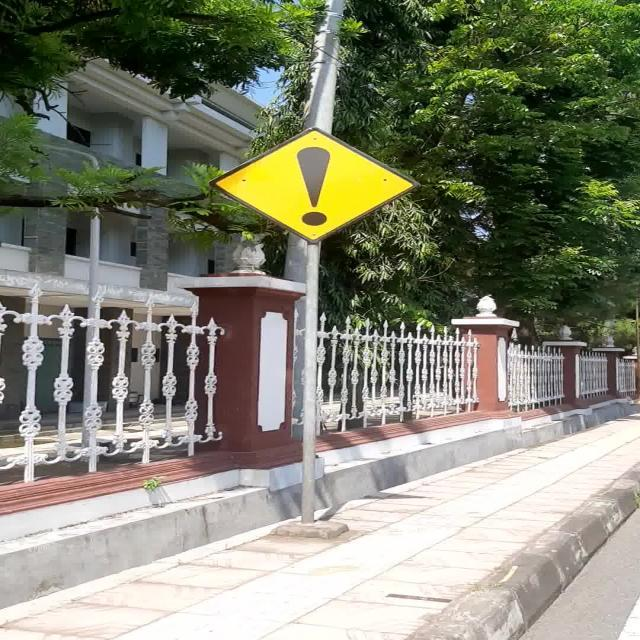Hati-Hati: (210, 126, 420, 244)
